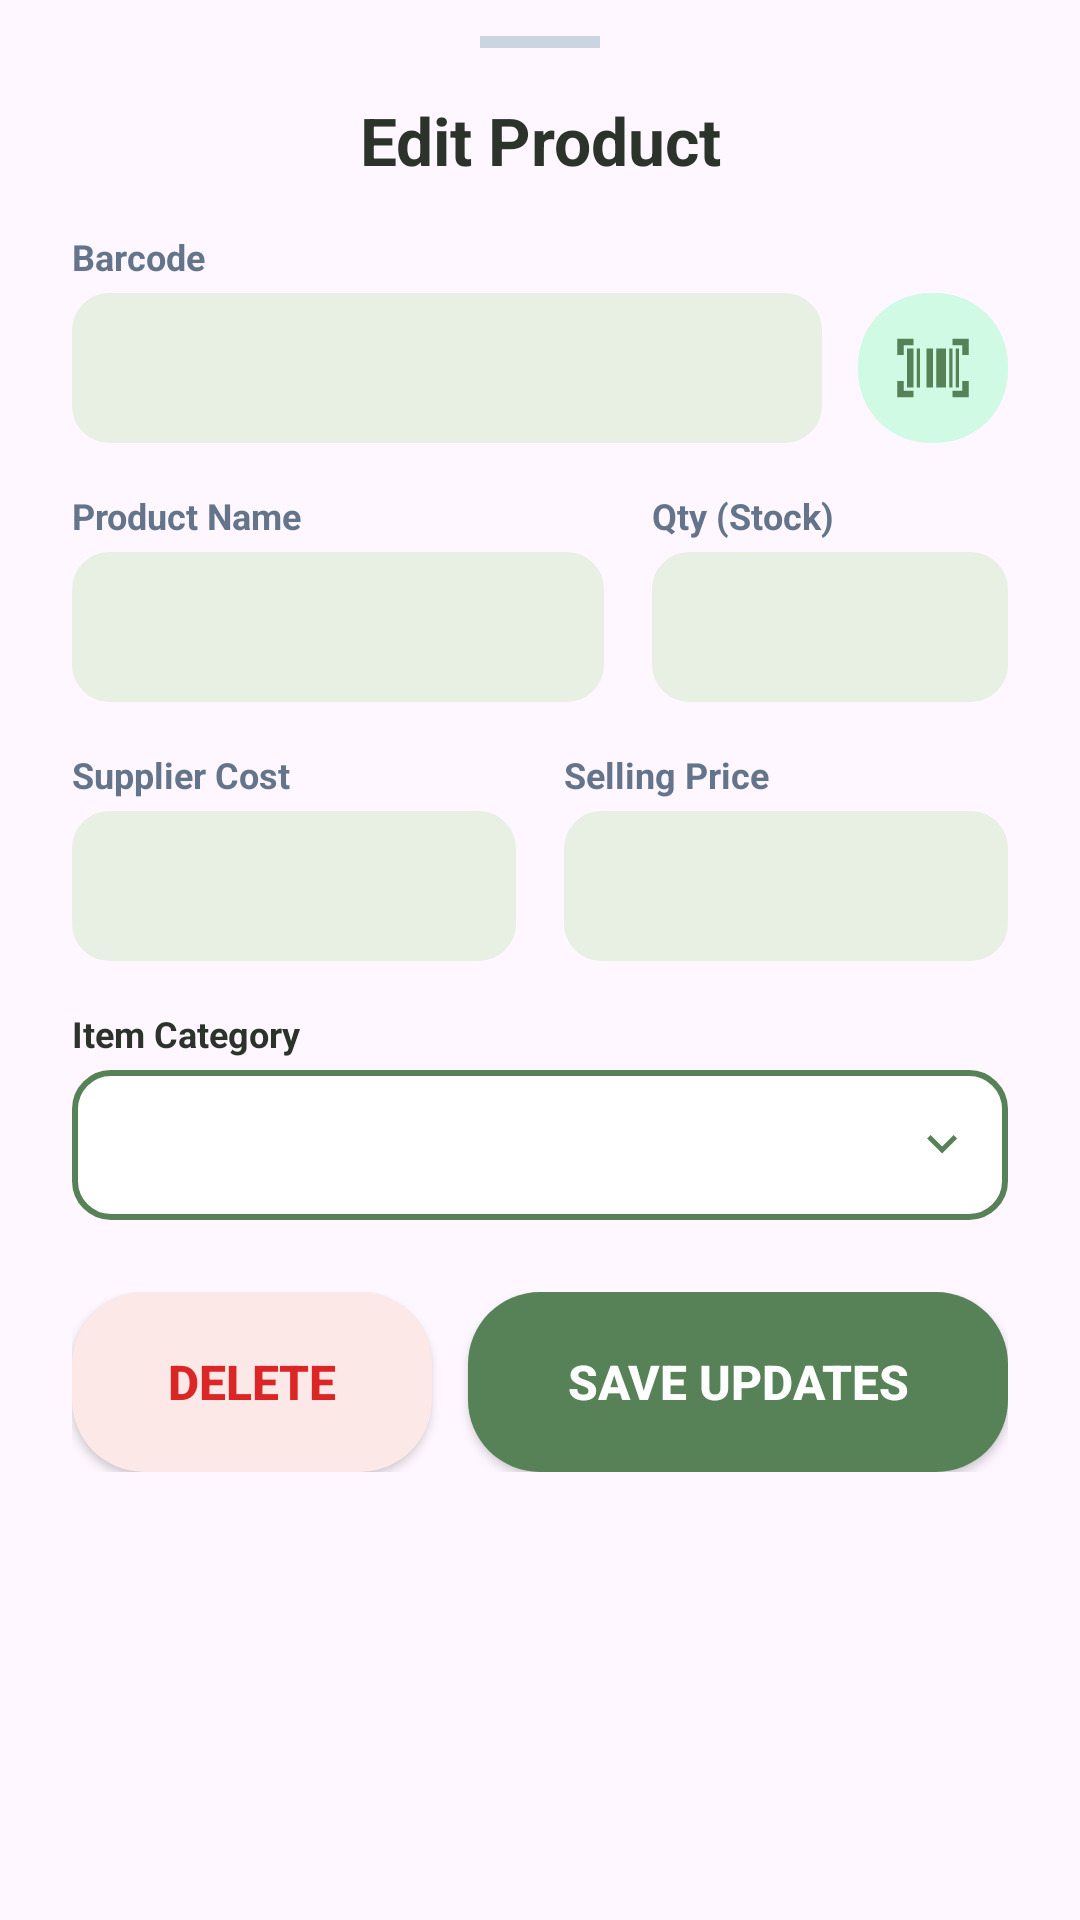

Icon click points for this 1080 × 1920 phone screenshot, format (x=x, y=y):
arrow down: (x=942, y=1144)
barcodescanner: (x=933, y=368)
